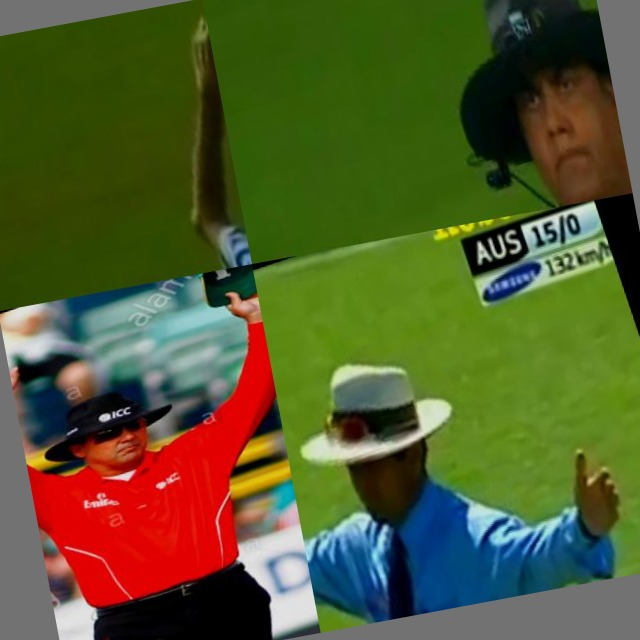No_Ball: (202, 0, 633, 264)
Six: (0, 264, 321, 640), (105, 0, 252, 282)
Wide: (264, 265, 640, 633)
